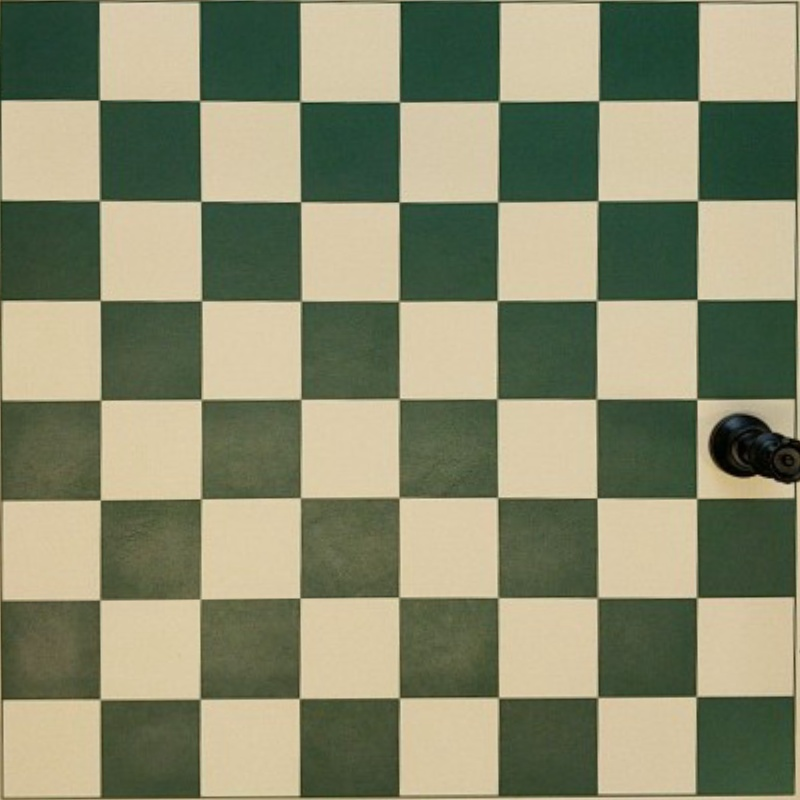black-queen: (709, 413, 800, 485)
